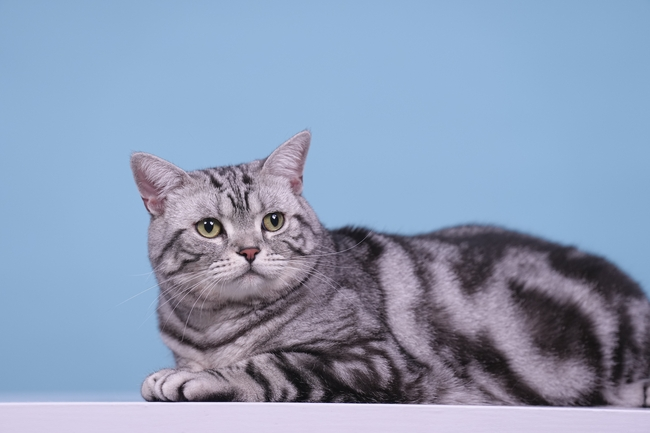cat: (126, 130, 650, 408)
